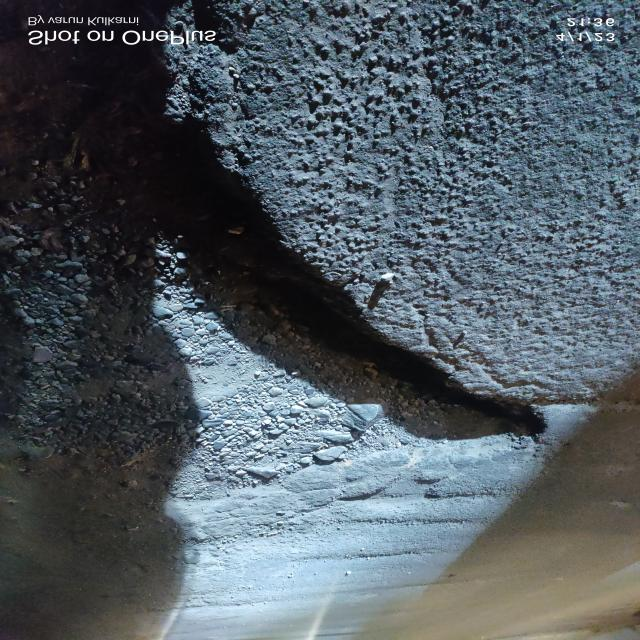potholes: (15, 106, 555, 446)
